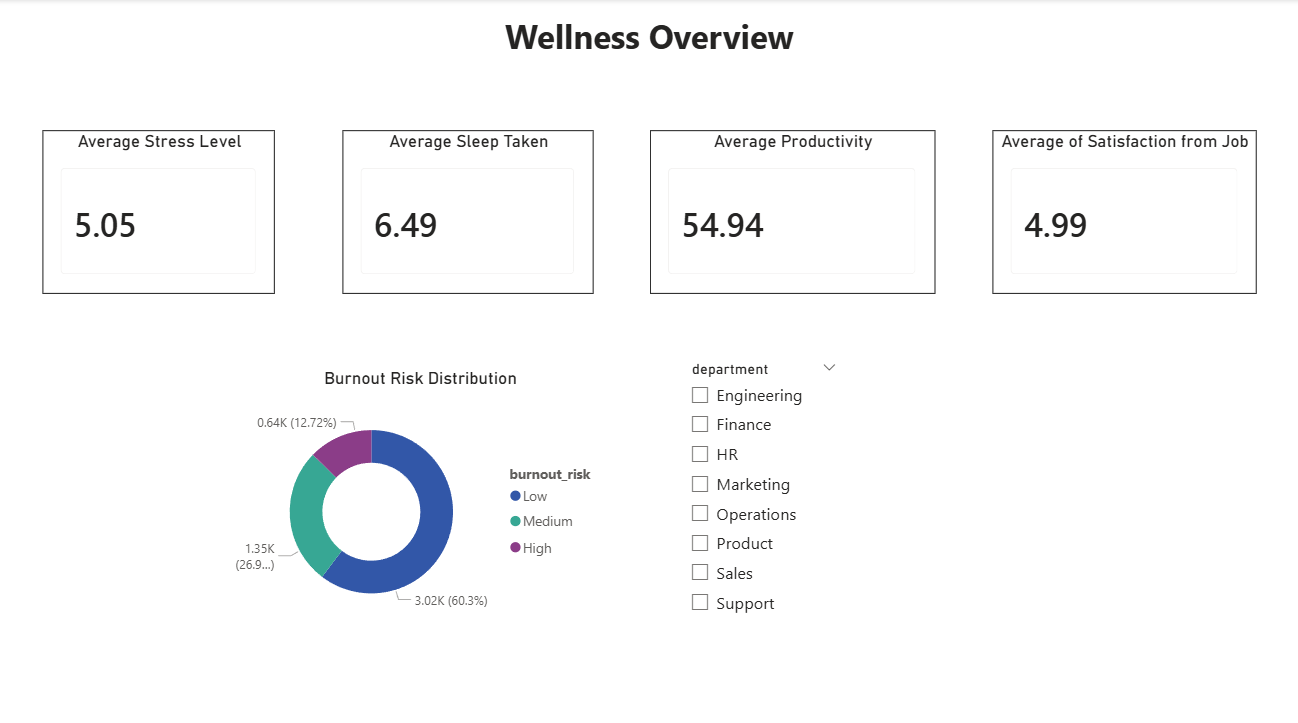

The page's visual inventory and layout, read from the dashboard file:
{"tool":"powerbi","page":{"name":"Wellness Overview","canvas":[1280,720],"ordinal":0},"visuals":[{"type":"cardVisual","title":"Average Stress Level","fields":{"Data":["Avg(Employee Wellness.stress_level)"]},"box":[46.5,128.4,227.4,160.2],"z":0},{"type":"cardVisual","title":"Average Sleep Taken","fields":{"Data":["Avg(Employee Wellness.sleep_hours)"]},"box":[339.9,128.4,245.8,160.2],"z":1000},{"type":"cardVisual","title":"Average Productivity","fields":{"Data":["Avg(Employee Wellness.productivity_score)"]},"box":[640.8,128.4,278.8,160.2],"z":2000},{"type":"cardVisual","title":"Average of Satisfaction from Job","fields":{"Data":["Avg(Employee Wellness.job_satisfaction)"]},"box":[975.8,128.4,258,160.2],"z":3000},{"type":"donutChart","title":"Burnout Risk Distribution","fields":{"Category":["Employee Wellness.burnout_risk"],"Y":["CountNonNull(Employee Wellness.burnout_risk)"]},"box":[228.7,360.7,375.4,262.9],"z":4000},{"type":"slicer","fields":{"Values":["Employee Wellness.department"]},"box":[668.9,348.5,166.3,262.9],"z":5000},{"type":"textbox","box":[0,9.8,1280.3,64.8],"z":7000}]}

Visuals, with their boxes in screenshot pixels (x1, y1, x2, y2), scaled from the page's 1280x720 canvas onto the 1298x723 screenshot:
"Average Stress Level" cardVisual: [x1=47, y1=129, x2=278, y2=290]
"Average Sleep Taken" cardVisual: [x1=345, y1=129, x2=594, y2=290]
"Average Productivity" cardVisual: [x1=650, y1=129, x2=933, y2=290]
"Average of Satisfaction from Job" cardVisual: [x1=990, y1=129, x2=1251, y2=290]
"Burnout Risk Distribution" donutChart: [x1=232, y1=362, x2=613, y2=626]
slicer - Employee Wellness.department: [x1=678, y1=350, x2=847, y2=614]
textbox: [x1=0, y1=10, x2=1297, y2=75]
